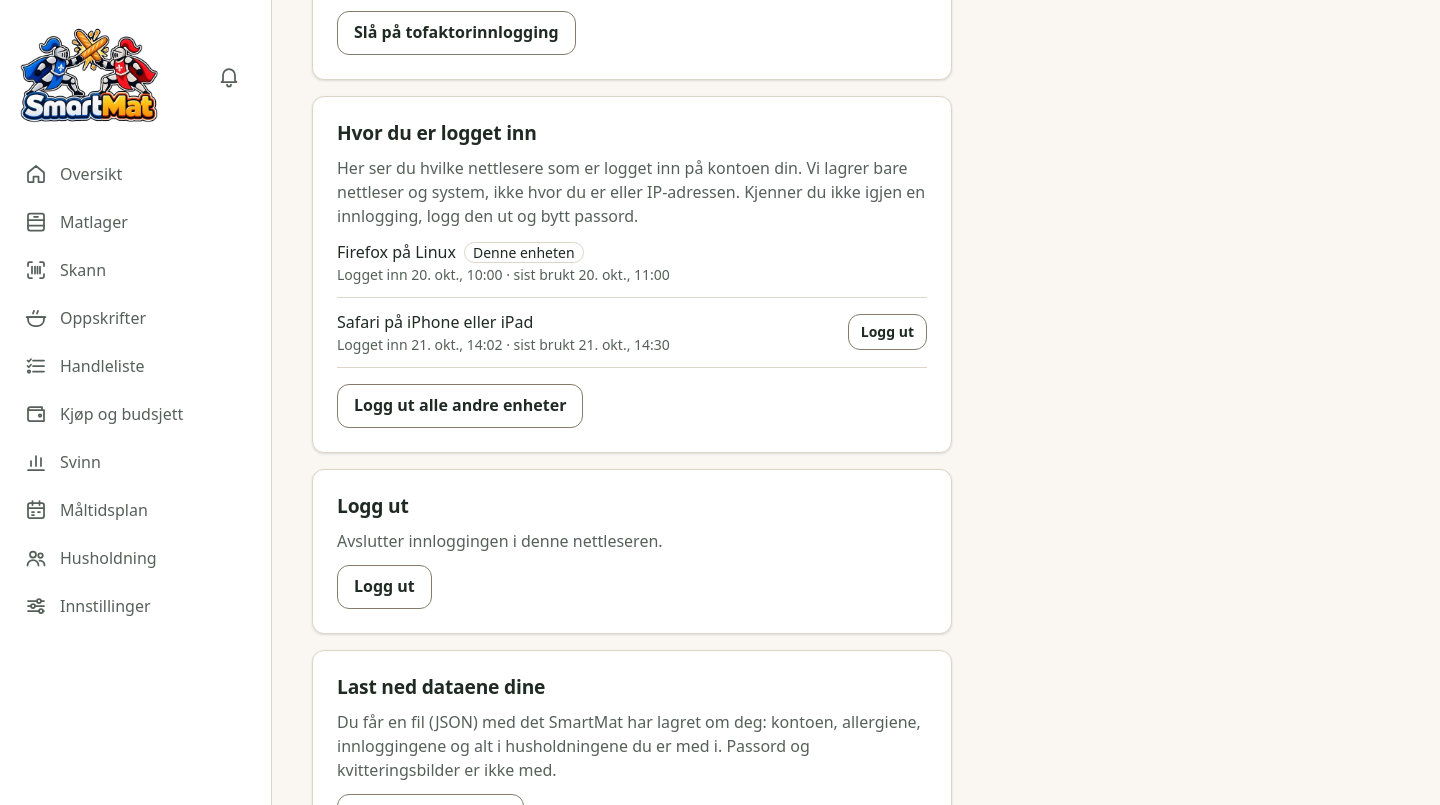
Scenario: FR-AUTH-009 where you are logged in (profile) › "Logg ut alle andre enheter" only when there are others, and reports how many
The width and height of the screenshot is (1440, 805).
(page scrolled)
What coordinates should you click on to do the following:
click the button "Logg ut alle andre enheter"
I would click on:
 (460, 406)
Its box is [337,384,584,428].
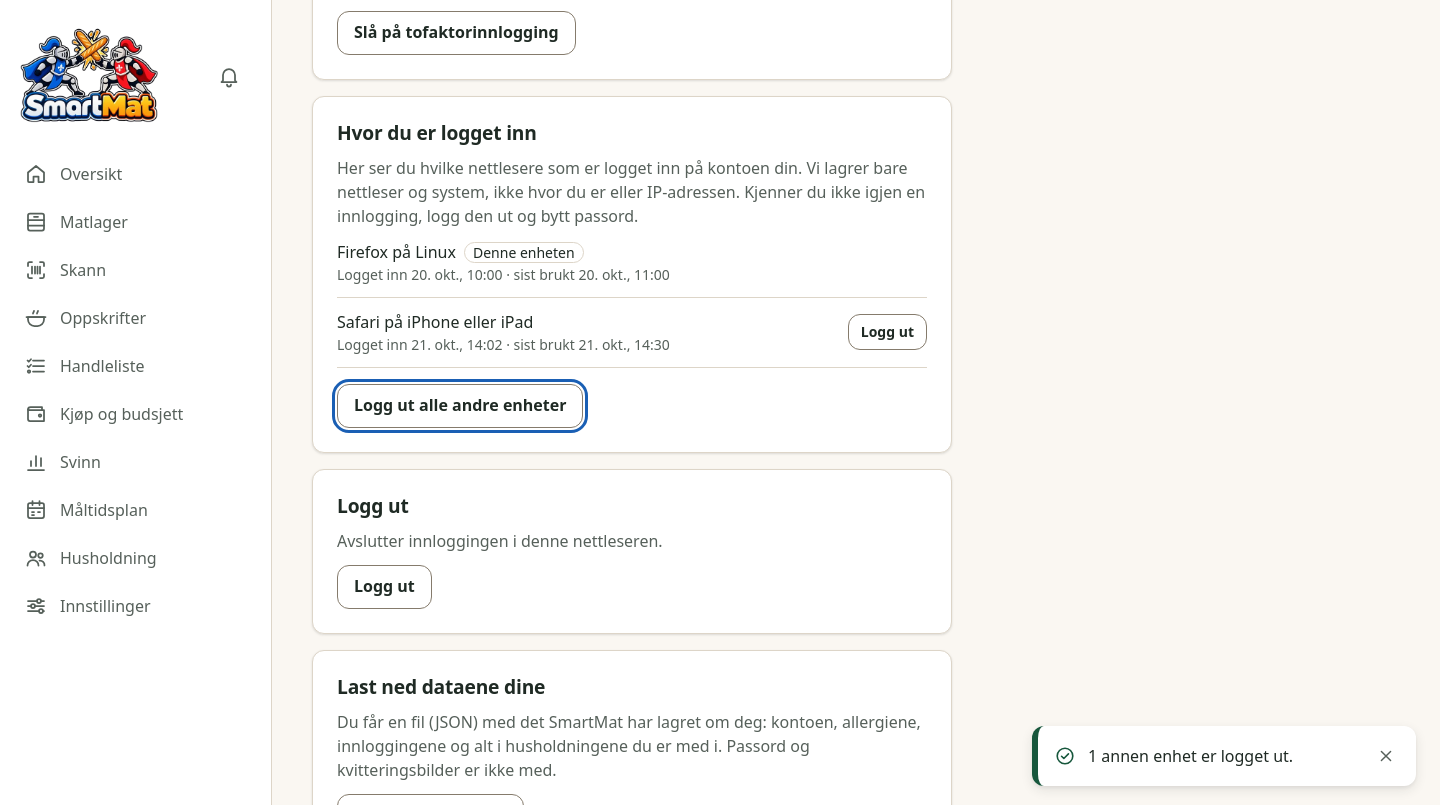
Expected: the text "1 annen enhet er logget ut." is shown, [1087,744,1293,767]
